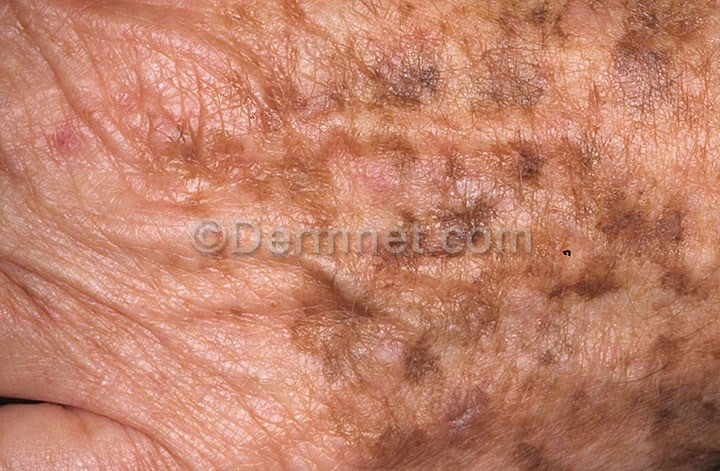Melasma: (98, 0, 700, 228), (252, 266, 720, 471)
